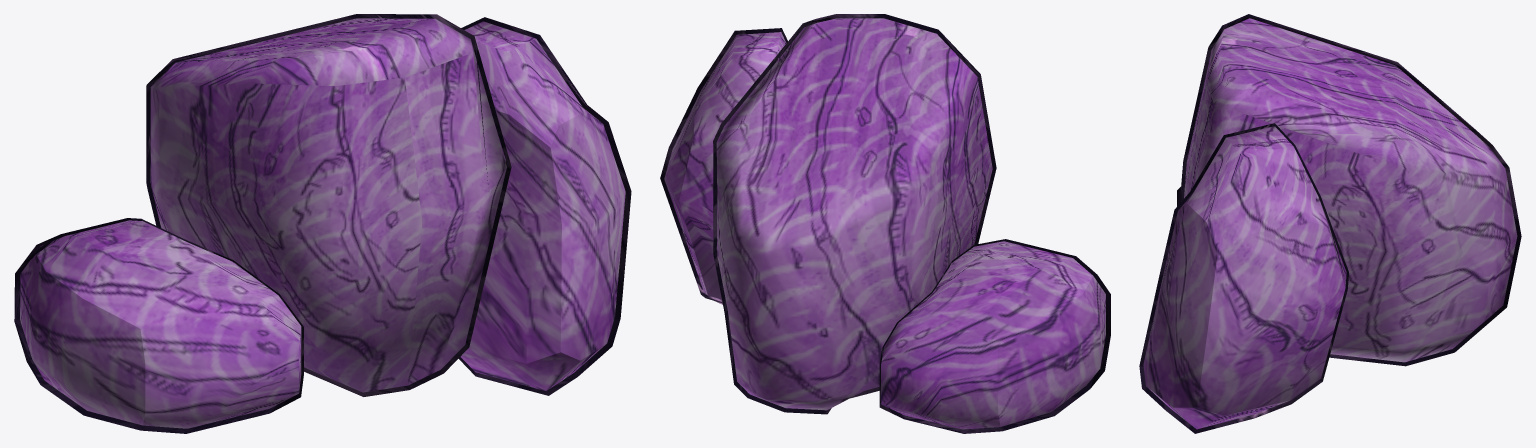
File: polygonalmind-momuspark-037.glb
3 renders of one model, left to right at view 1: azimuth 30°, elevation 25°; view 2: azimuth 150°, elevation 25°; view 3: azimuth 270°, elevation 25°, orthographic. The views are drawn at different scales.
Visible parts, largest first — view 1: Rock_03_Art; view 2: Rock_03_Art; view 3: Rock_03_Art.
Boxes of the visible parts, x1,y1,x2,y2 form: Rock_03_Art: (14,14,631,433); Rock_03_Art: (660,14,1110,433); Rock_03_Art: (1139,14,1521,433).
Size of what is drawn, in the model's own units: 6.59 by 4.43 by 4.91.
2 materials, 2 textured.
